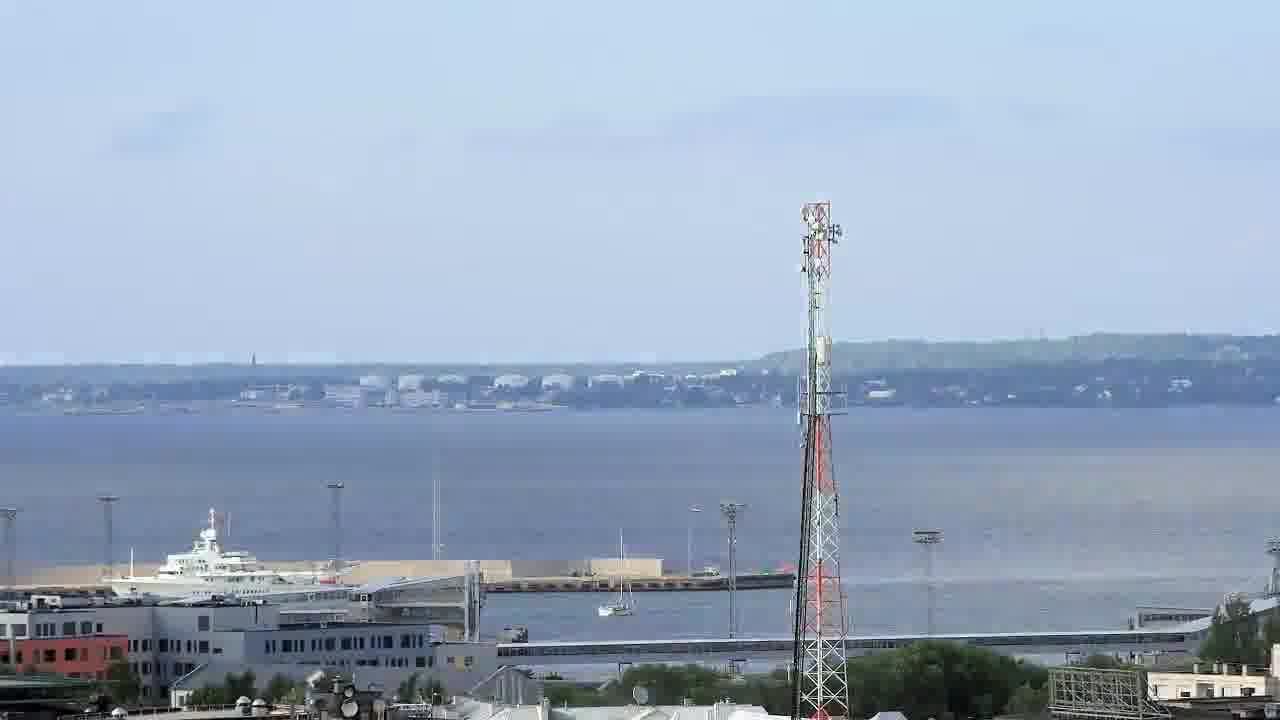type-0: (590, 574, 653, 631)
type-3: (84, 515, 355, 603)
